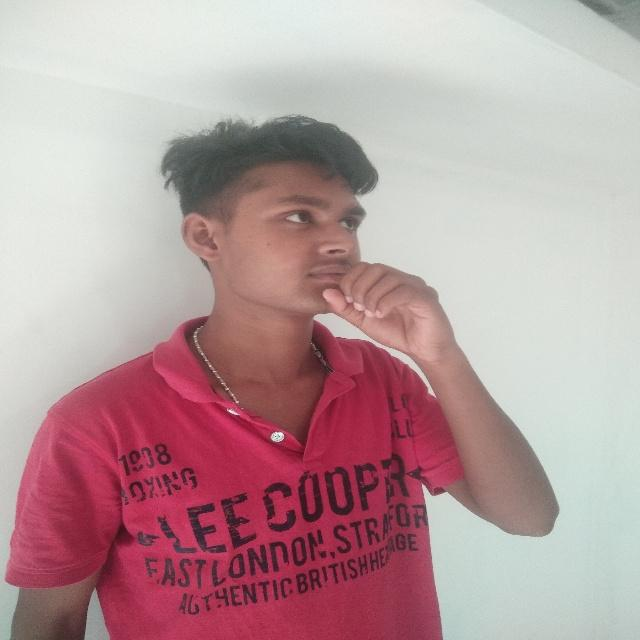Fist Mouth: (164, 122, 467, 391)
